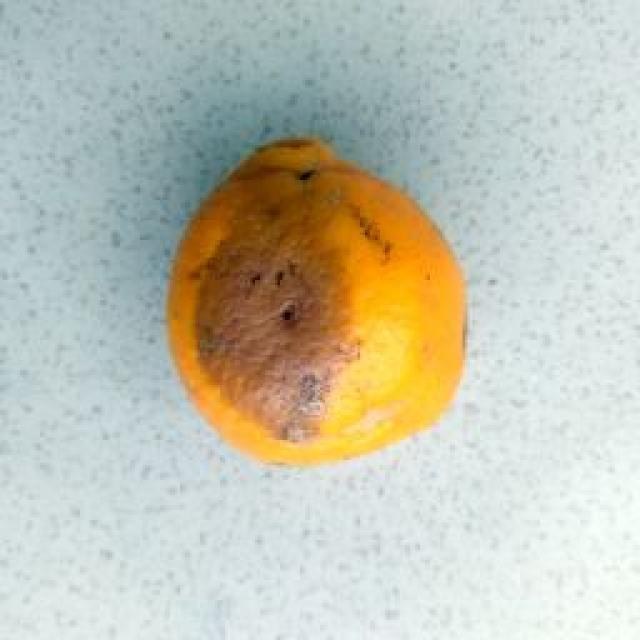Bad_Orange: (168, 138, 464, 463)
